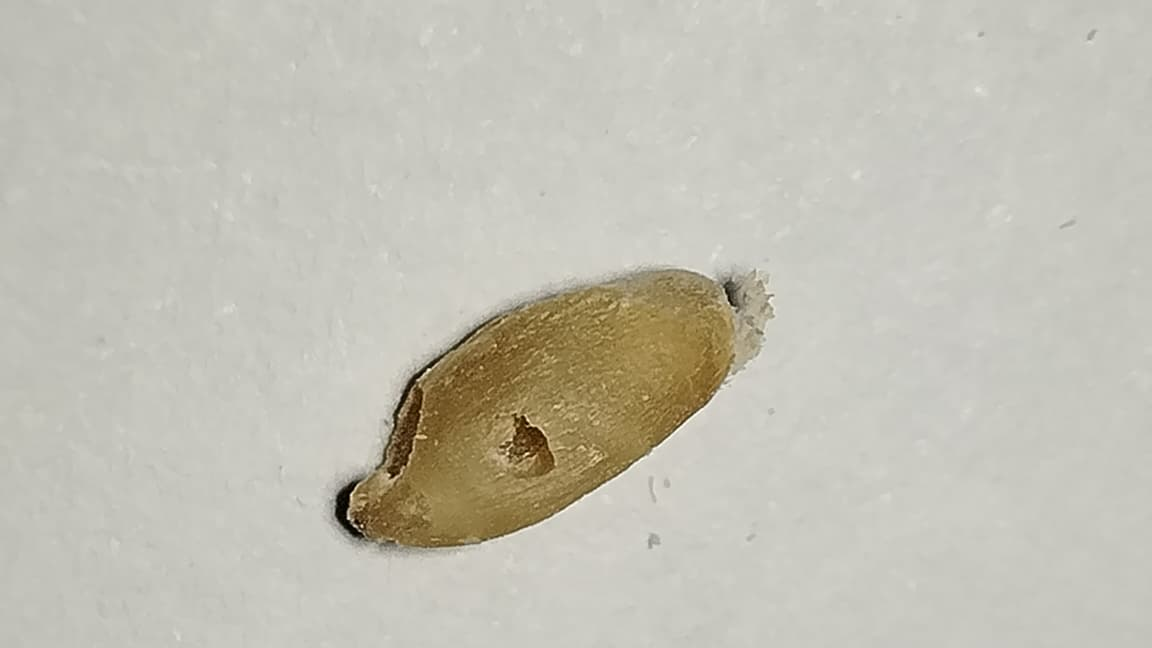damage: (343, 270, 772, 549)
insectdamage: (344, 383, 423, 519), (483, 403, 579, 490)
